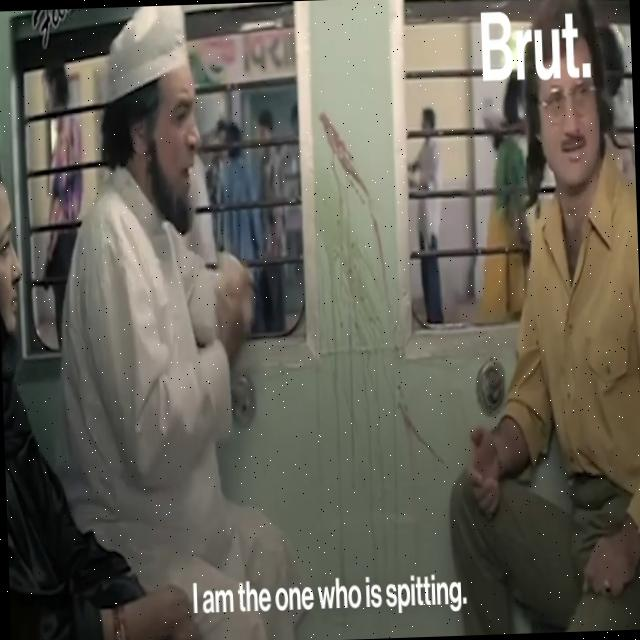spit: (298, 84, 412, 400)
